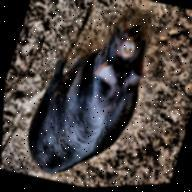boar: (16, 5, 160, 191)
